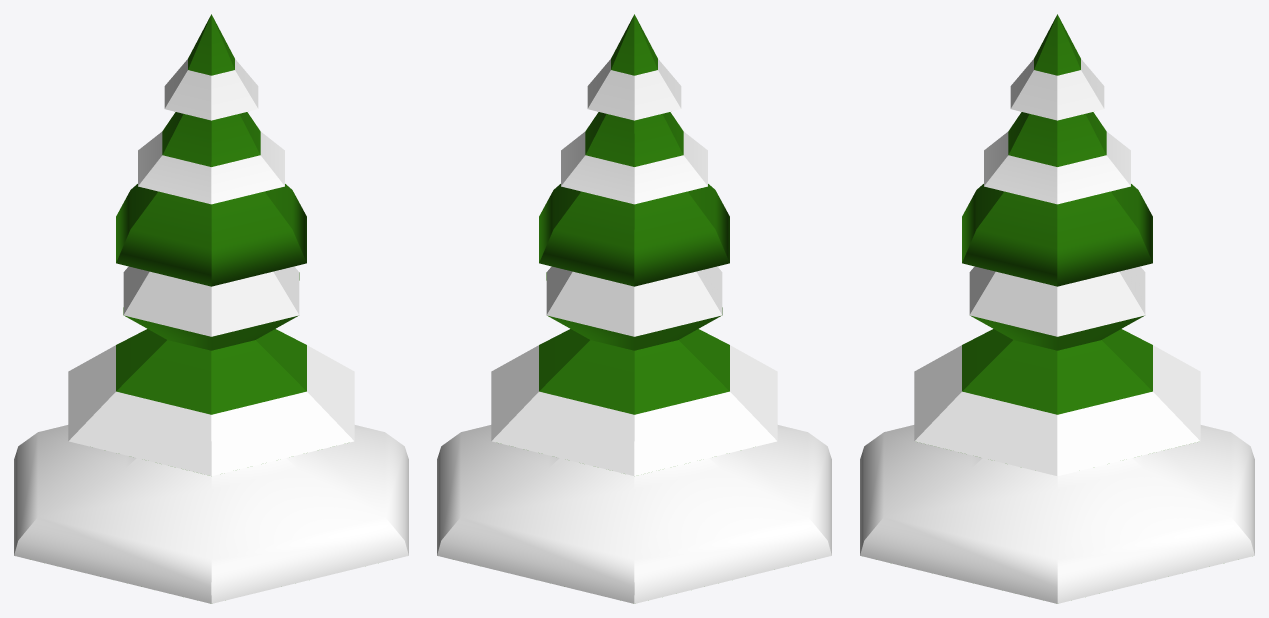
The model's file is snowyPine.glb.
The picture shows the model from 3 angles, left to right: view 1: azimuth 30°, elevation 25°; view 2: azimuth 150°, elevation 25°; view 3: azimuth 270°, elevation 25°; orthographic projection.
Visible parts, largest first — view 1: pCone1_lambert4_0, pCone1_lambert2_0; view 2: pCone1_lambert4_0, pCone1_lambert2_0; view 3: pCone1_lambert4_0, pCone1_lambert2_0.
Boxes of the visible parts, x1,y1,x2,y2 form: pCone1_lambert4_0: (14,59,408,603); pCone1_lambert2_0: (116,14,306,414); pCone1_lambert4_0: (437,59,831,603); pCone1_lambert2_0: (539,14,729,414); pCone1_lambert4_0: (860,59,1254,603); pCone1_lambert2_0: (962,14,1152,414).
Size of the model in its own units: 213 by 296 by 185.
